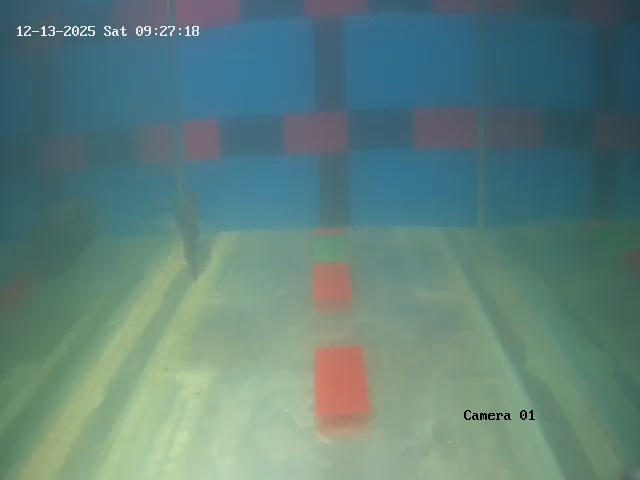fish: (169, 190, 209, 281)
